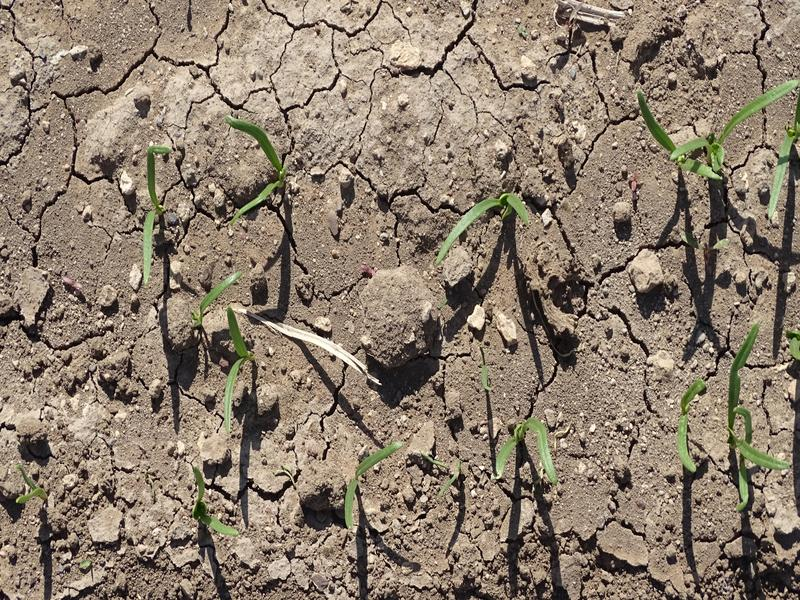Espinaca: (637, 74, 797, 222), (728, 331, 788, 497), (219, 115, 292, 209), (439, 180, 533, 249), (133, 140, 172, 282), (338, 440, 404, 520), (491, 414, 557, 479), (219, 308, 257, 420), (189, 467, 242, 540), (188, 270, 245, 324), (678, 377, 706, 470)
